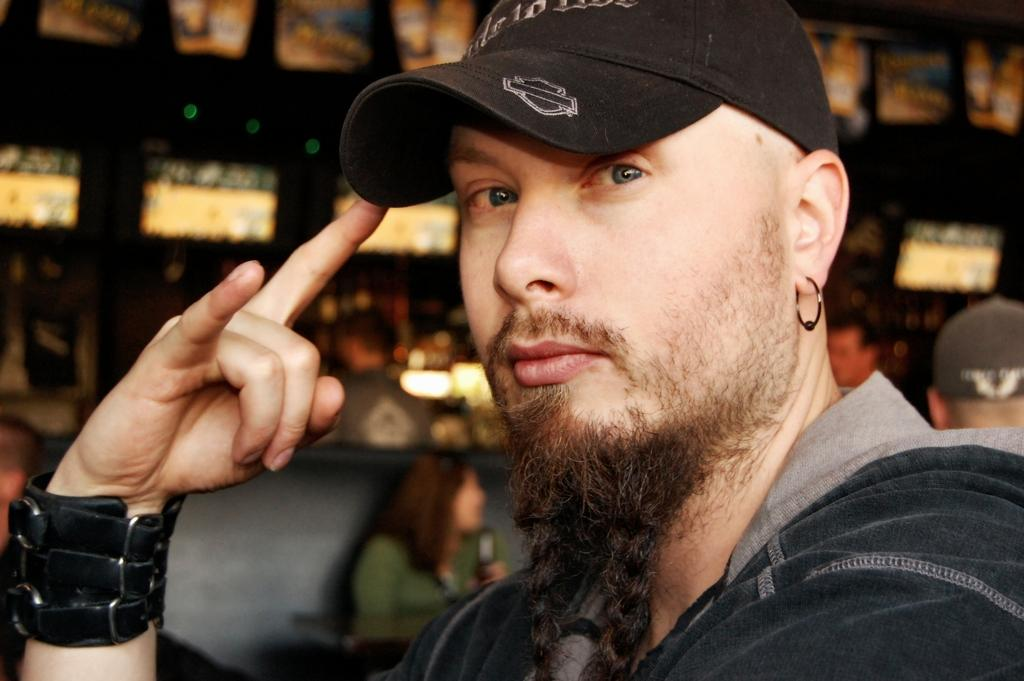Hat: (340, 0, 844, 206)
